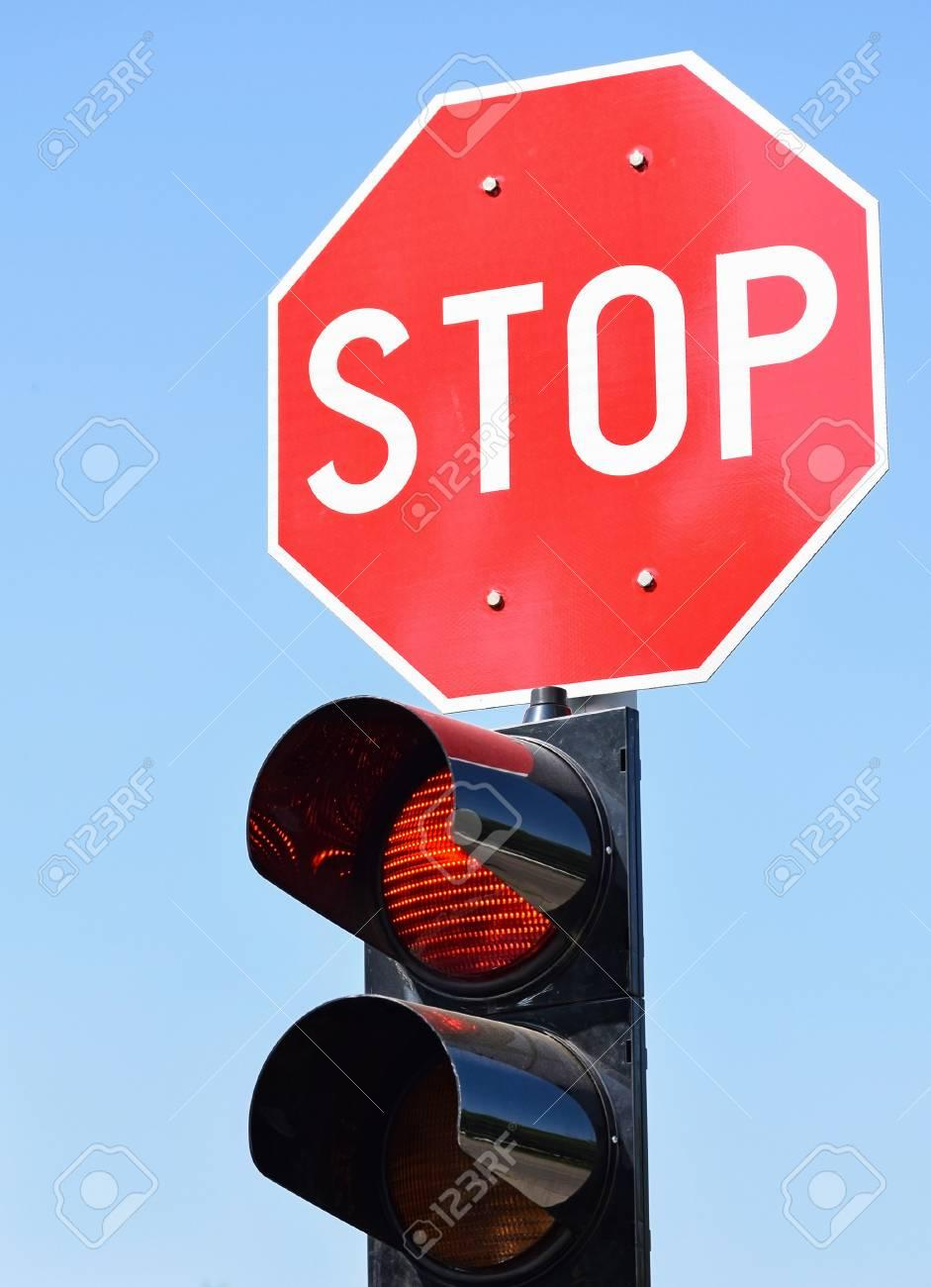red: (231, 686, 745, 1287)
